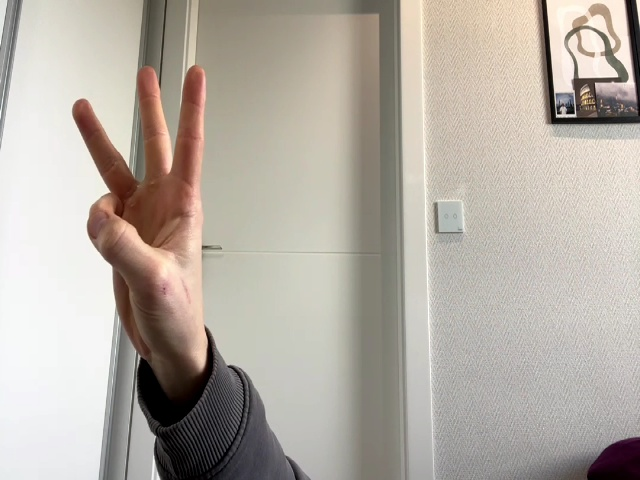W: (72, 65, 207, 347)
